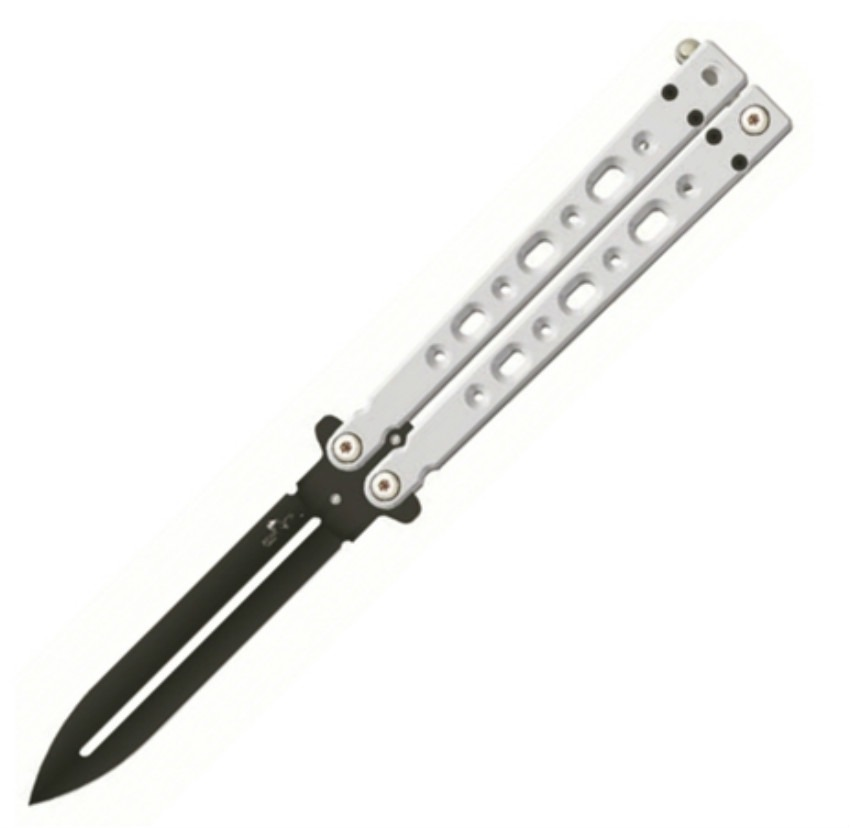knife: (25, 31, 794, 826)
